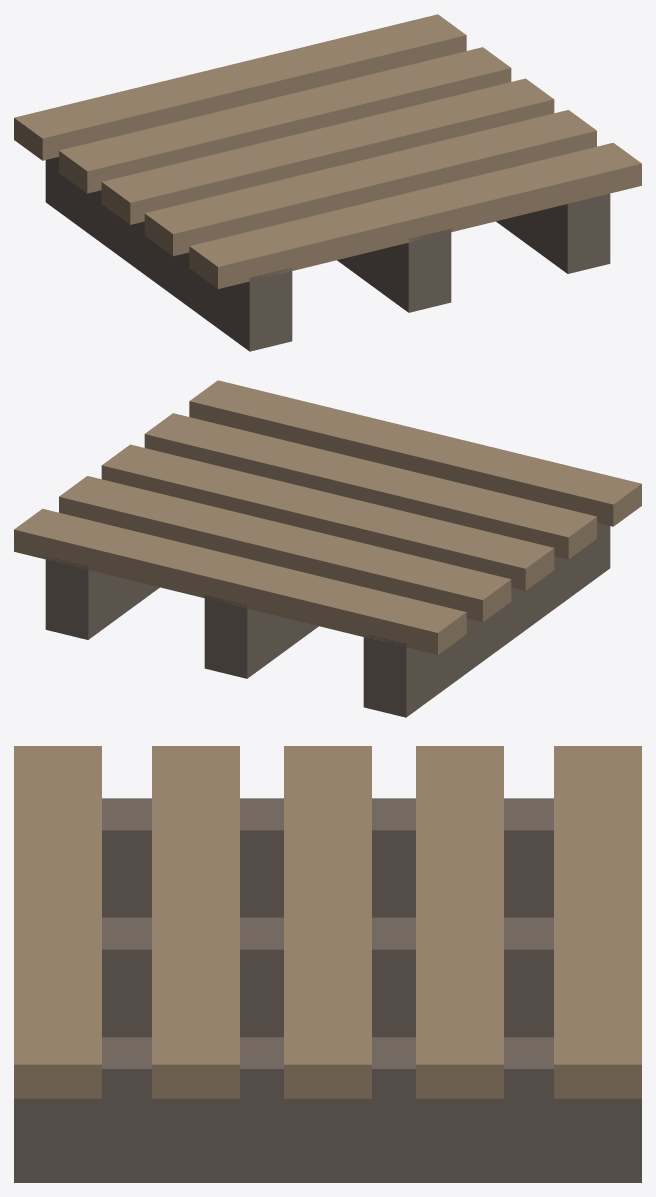
The model's file is pallet.glb.
The picture shows the model from 3 angles, top to bottom: view 1: azimuth 30°, elevation 25°; view 2: azimuth 150°, elevation 25°; view 3: azimuth 270°, elevation 25°; orthographic projection. The views are drawn at different scales.
Parts seen in each view (by area): view 1: body; view 2: body; view 3: body.
Part boxes in pixels (box(x1,y1,x2,y2)): body: box(14, 14, 641, 351); body: box(14, 380, 641, 717); body: box(14, 746, 641, 1182).
Bounding box in the file's own units: 1.2 × 0.25 × 1.
